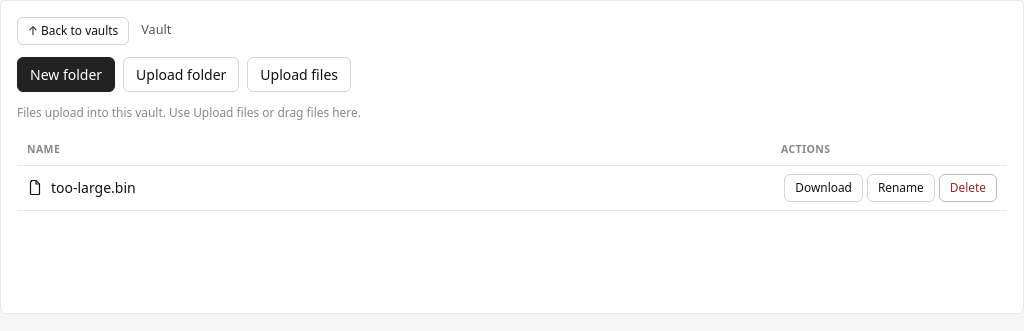
Scenario: VaultContents mutation identity › rejects an oversized download before creating a Blob
Step 1. Click the button with test id "download-file" → (824, 188), box [784,174,863,202]
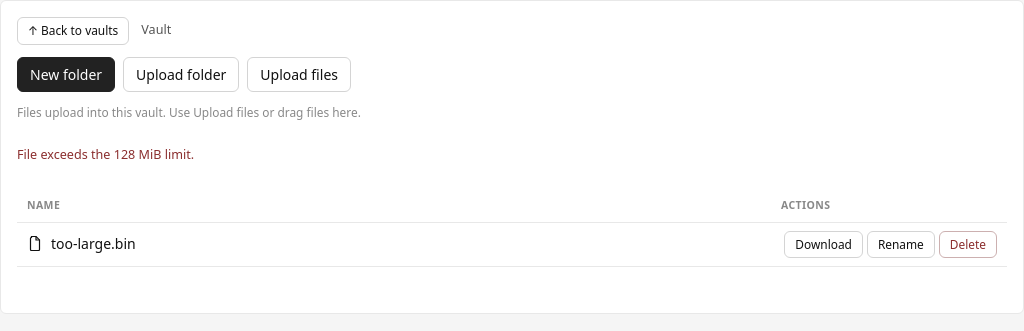
Expected: the text with test id "vault-detail-error" reads "File exceeds the 128 MiB limit.", [17,146,194,163]
